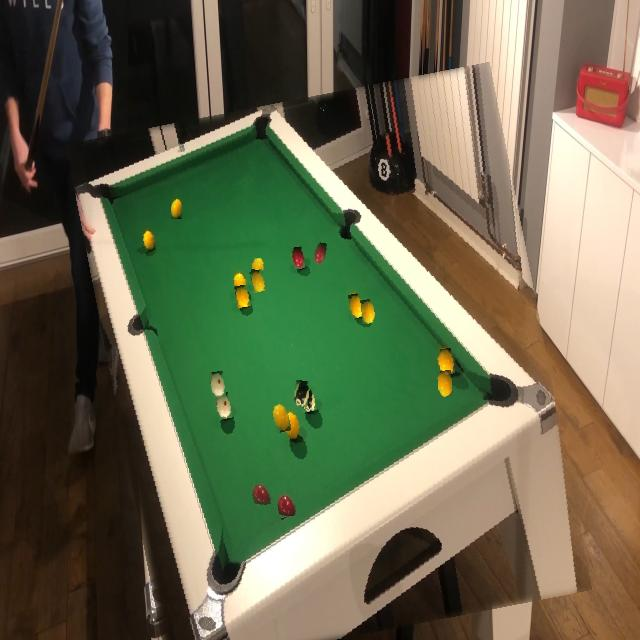Ball: (273, 404, 290, 432), (251, 483, 270, 507), (293, 381, 310, 407), (210, 372, 226, 398), (437, 371, 453, 397), (360, 300, 375, 324), (250, 270, 265, 292), (313, 243, 326, 265), (251, 258, 265, 275), (171, 198, 182, 219)
Billiard table: (89, 79, 568, 640)
